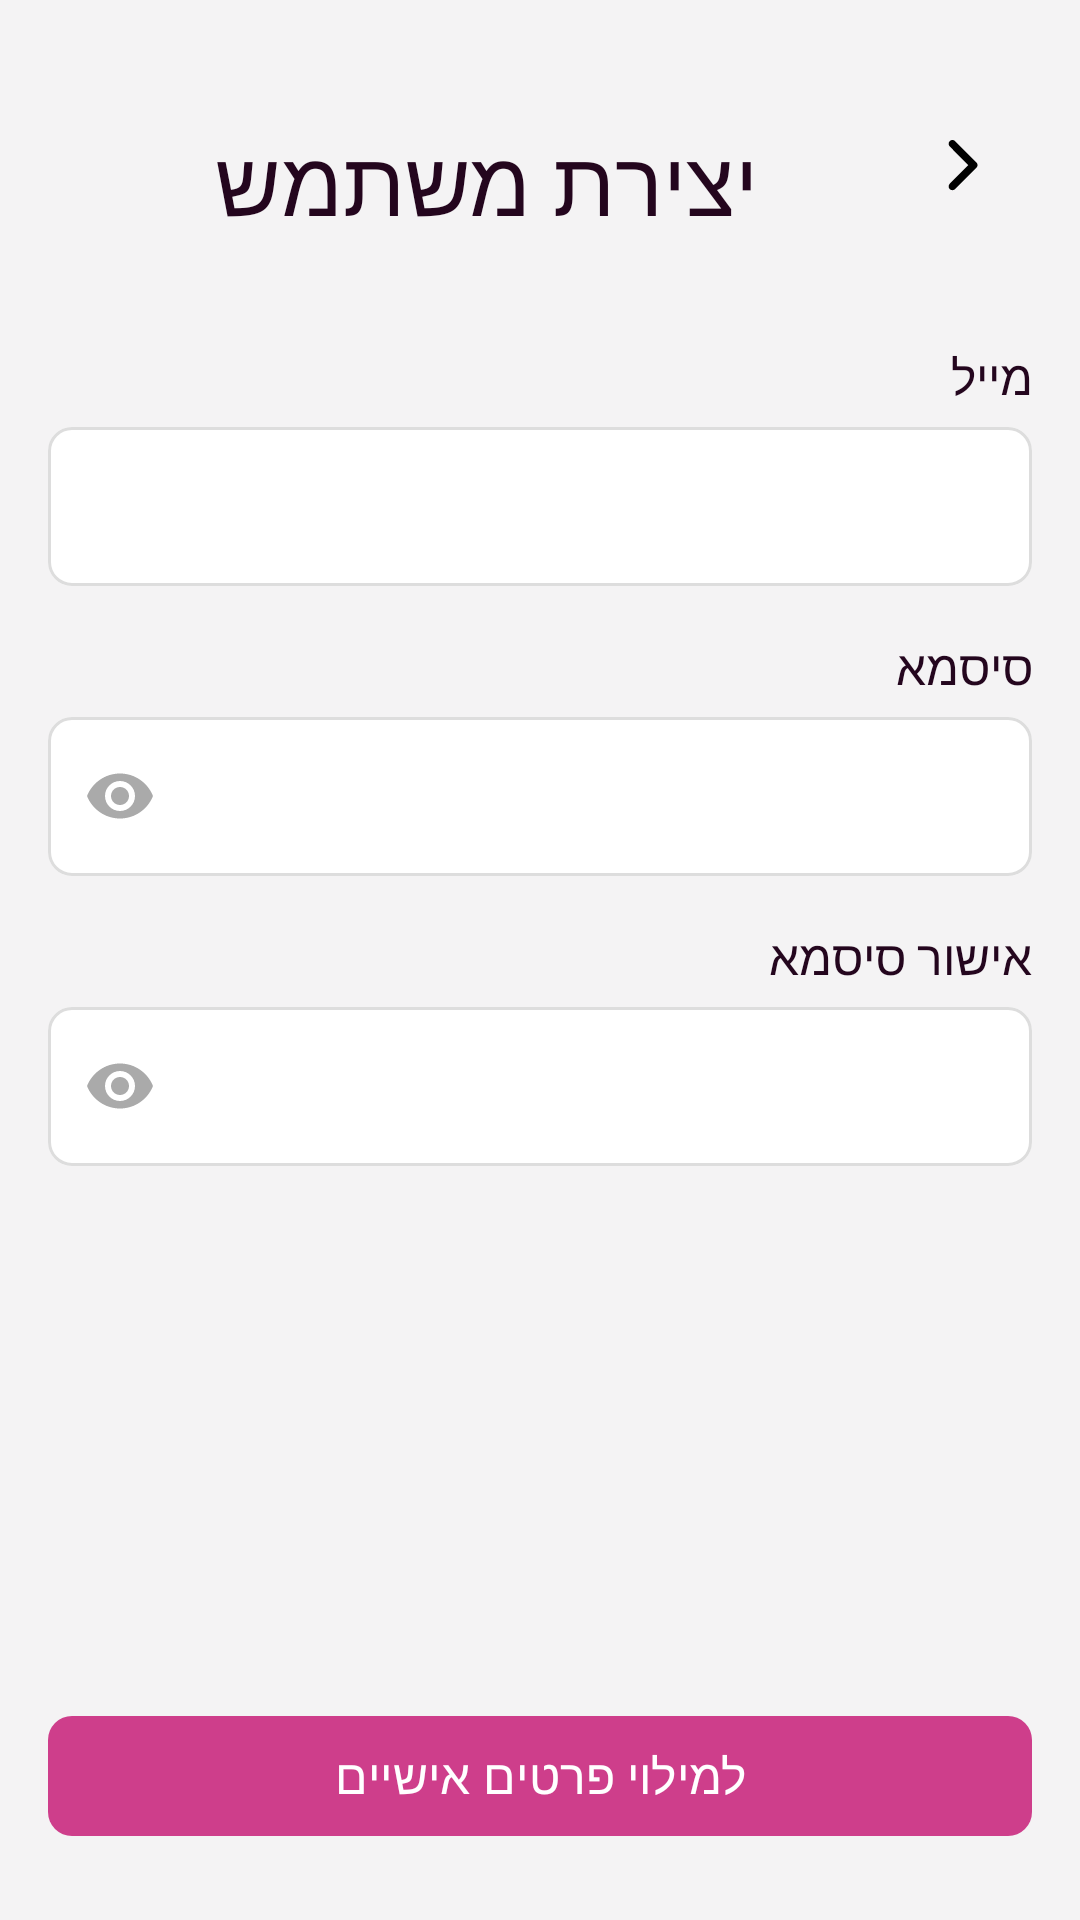

Point at icon controls on the screen. Image size 1080px x 1920px, points as [x,y].
arrow forward: [963,165]
